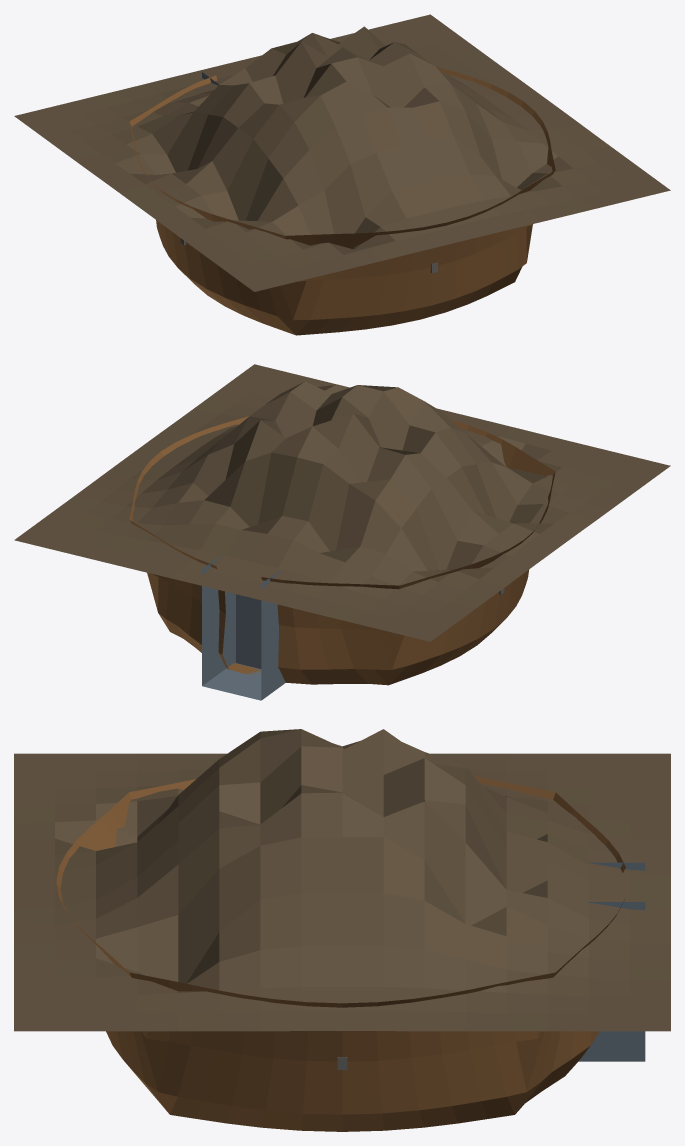
File: Escape Room Environment.fbx
The picture shows the model from 3 angles, top to bottom: view 1: azimuth 30°, elevation 25°; view 2: azimuth 150°, elevation 25°; view 3: azimuth 270°, elevation 25°; orthographic projection. The views are drawn at different scales.
Visible parts, largest first — view 1: Plane.001, Plane; view 2: Plane.001, Plane, Cube; view 3: Plane.001, Plane, Cube.
Boxes of the visible parts, <box> form: Plane.001: <box>14,14,670,291</box>; Plane: <box>129,66,555,335</box>; Plane.001: <box>14,364,670,641</box>; Plane: <box>129,416,555,685</box>; Cube: <box>202,554,285,700</box>; Plane.001: <box>14,729,670,1031</box>; Plane: <box>56,776,625,1131</box>; Cube: <box>578,862,645,1061</box>.
Bounding box in the file's own units: 2387 × 1185 × 2387.
